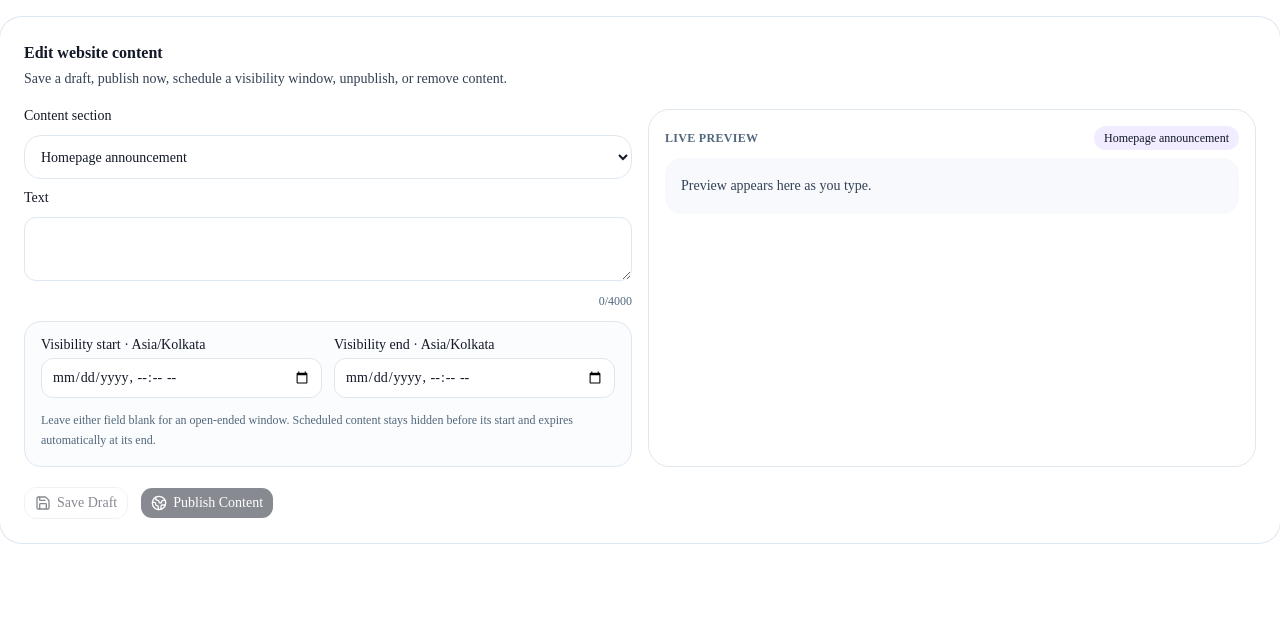
Test: ContentEditor › saves a draft and then publishes it to the homepage
This screenshot has width=1280, height=625.
In the text box labelled "Text": (328, 249) 24,217 -> 632,281, type "Founder meetup registration is open."
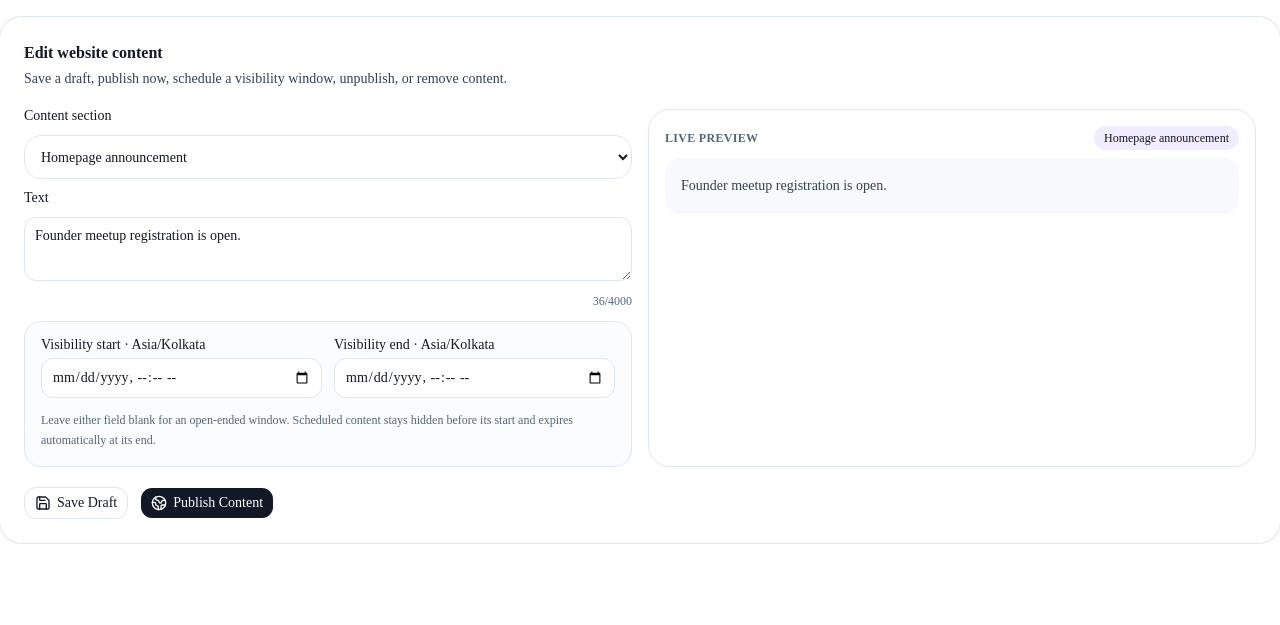
Click the button "Save Draft": (76, 503) 24,487 -> 128,519
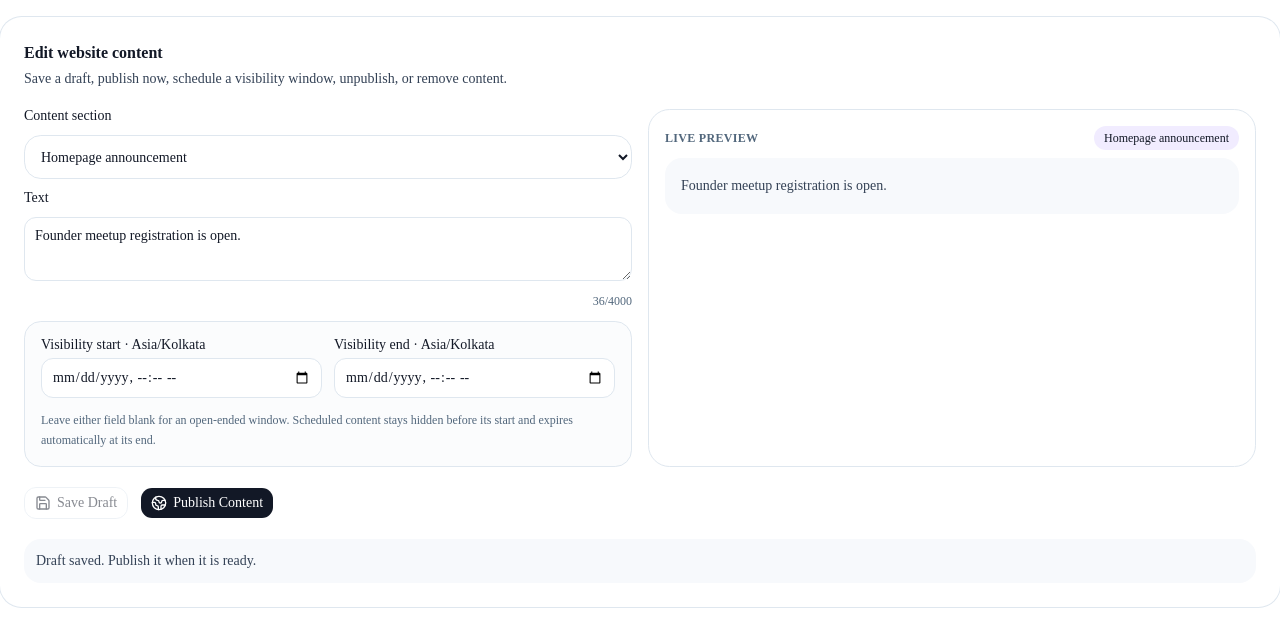
Expected: the button "Publish Content" is enabled
Expected: the text "Draft saved. Publish it when it is ready." is shown, 24,539 -> 1256,583
Click the button "Publish Content": (207, 503) 140,487 -> 274,519
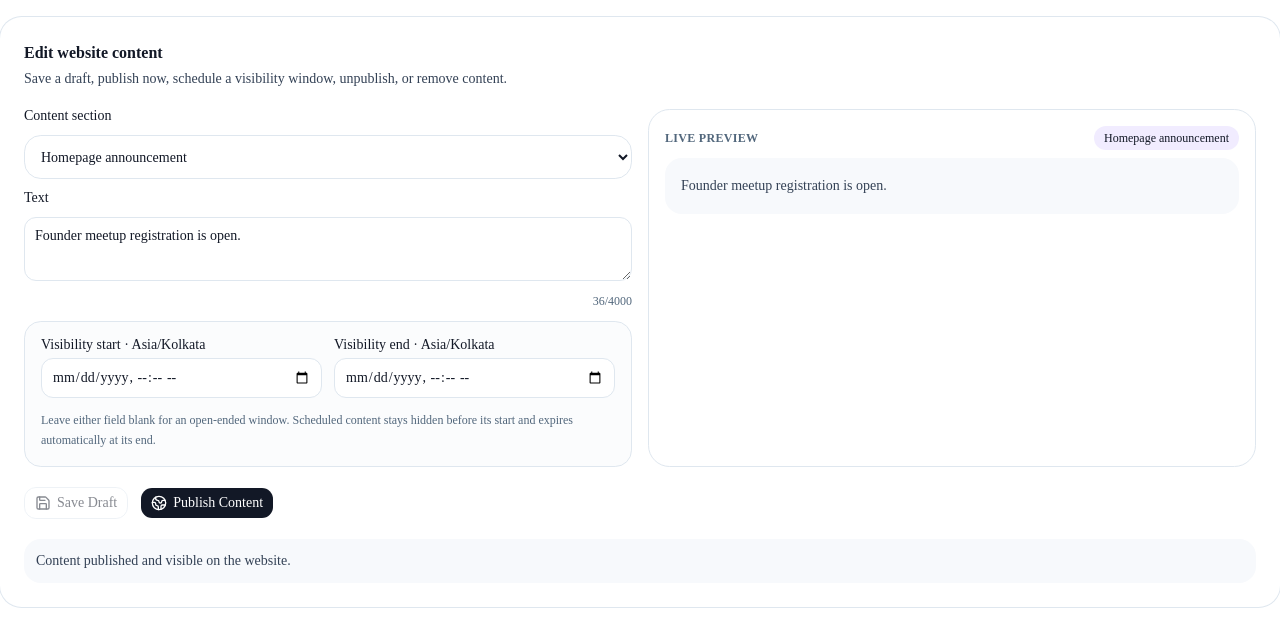
Expected: the text "Content published and visible on the website." is shown, 24,539 -> 1256,583
